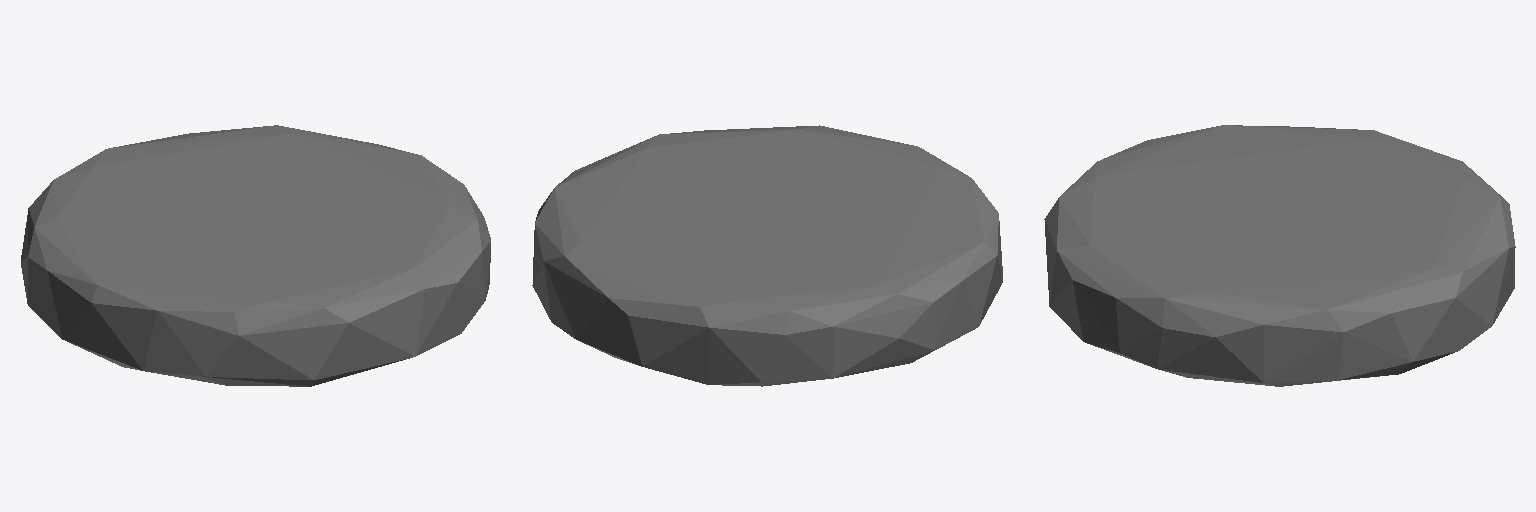
URDF robot description (tape_003):
<?xml version="1.0" ?>
<robot name="tape_003">
  <material name="color">
    <color rgba=".5 .5 .5 1"/>
  </material>

  <link name="base_link">
    <contact>
      <lateral_friction value="1.0"/>
      <rolling_friction value="0.001"/>
      <spinning_friction value="0.001"/>
      <inertia_scaling value="1.0"/>
    </contact>
    <inertial>
      <origin rpy="0 0 0" xyz="-7.63338e-06 -4.14025e-06 1.04921e-05"/>
       <mass value="0.1"/>
       <inertia ixx="1" ixy="0" ixz="0" iyy="1" iyz="0" izz="1"/>
    </inertial>

    <visual>
      <origin rpy="0 0 0" xyz="0 0 0"/>
      <geometry>
        <mesh filename="tape_003_vhacd_0_of_1.obj" scale="1 1 1"/>
      </geometry>
      <material name="color"/>
    </visual>

    <collision>
      <origin rpy="0 0 0" xyz="0 0 0"/>
      <geometry>
        <mesh filename="tape_003_vhacd_0_of_1.obj" scale="1 1 1"/>
      </geometry>
    </collision>

  </link>
</robot>

--- Facts derived from the render (not from the file) ---
The picture shows the robot from 3 angles, left to right: view 1: azimuth 30°, elevation 25°; view 2: azimuth 150°, elevation 25°; view 3: azimuth 270°, elevation 25°; orthographic projection.
Model tape_003 with 1 links and 0 joints (none), rooted at base_link, posed every joint at zero.
Visible links, largest first — view 1: base_link; view 2: base_link; view 3: base_link.
Boxes of the visible links, x1,y1,x2,y2 form: base_link: (21, 125, 490, 386); base_link: (532, 125, 1002, 386); base_link: (1044, 125, 1515, 386).
Size in the robot's own frame: 0.1577 by 0.1579 by 0.0306 metres.
1 mesh visuals loaded from 1 distinct referenced files (1 OBJ).